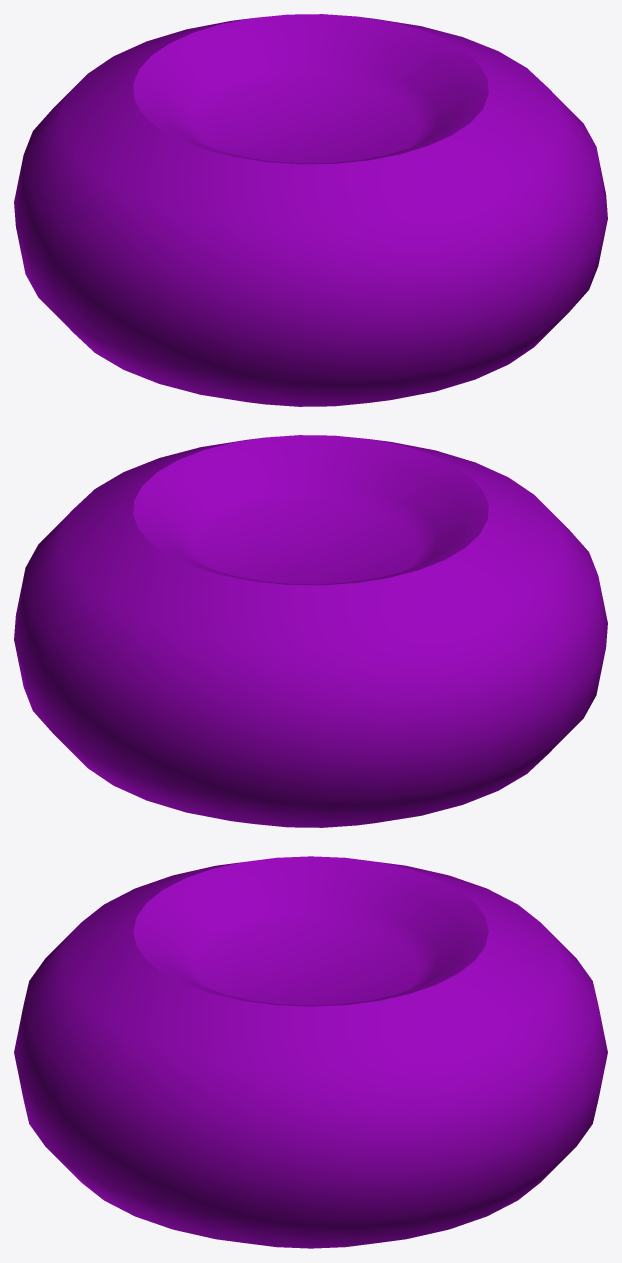
Rendered from Circle.purple.fbx.
3 renders of one model, top to bottom at view 1: azimuth 30°, elevation 25°; view 2: azimuth 150°, elevation 25°; view 3: azimuth 270°, elevation 25°, orthographic.
Visible parts, largest first — view 1: Circle.purple; view 2: Circle.purple; view 3: Circle.purple.
Part boxes in pixels (<box>): Circle.purple: <box>14,14,607,406</box>; Circle.purple: <box>14,435,607,827</box>; Circle.purple: <box>14,856,607,1248</box>.
Size of the model in its own units: 33.73 by 15.16 by 33.73.
